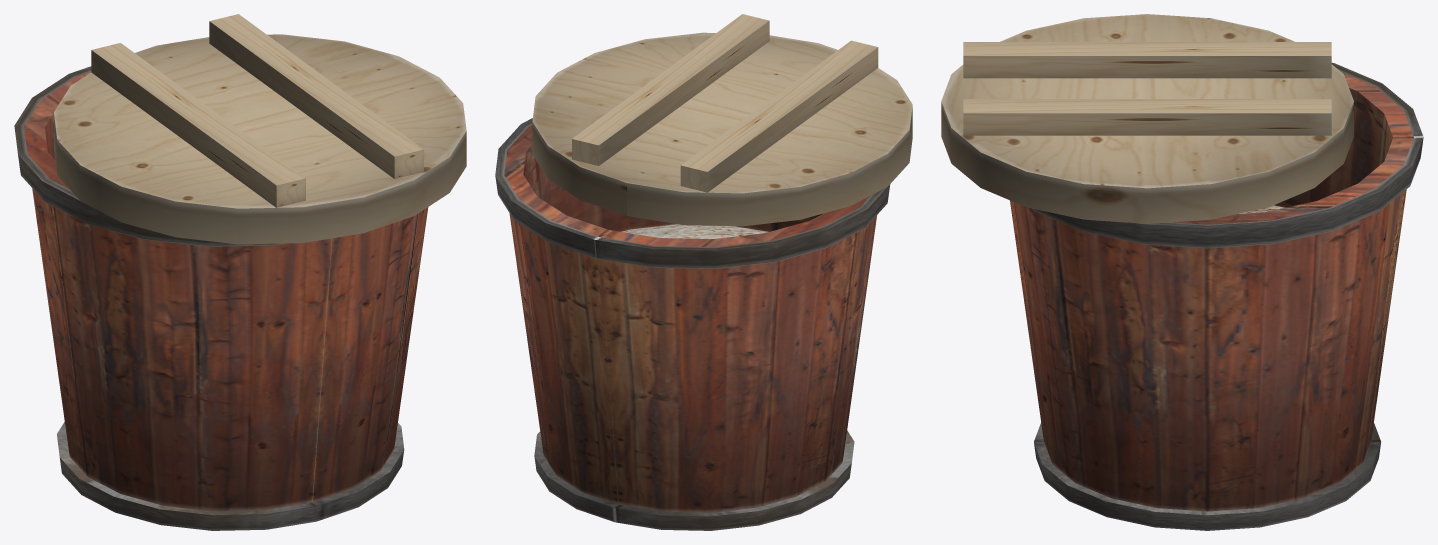
Rendered from RiceBucket02.fbx.
3 views of the same model, side by side, from view 1: azimuth 30°, elevation 25°; view 2: azimuth 150°, elevation 25°; view 3: azimuth 270°, elevation 25° (orthographic). The views are drawn at different scales.
Visible parts, largest first — view 1: RiceBucket02; view 2: RiceBucket02; view 3: RiceBucket02.
Part boxes in pixels (x1,y1,x2,y2): RiceBucket02: [14, 14, 466, 530]; RiceBucket02: [495, 14, 912, 530]; RiceBucket02: [941, 14, 1423, 530].
Size of the model in its own units: 20.31 by 19.68 by 22.67.
